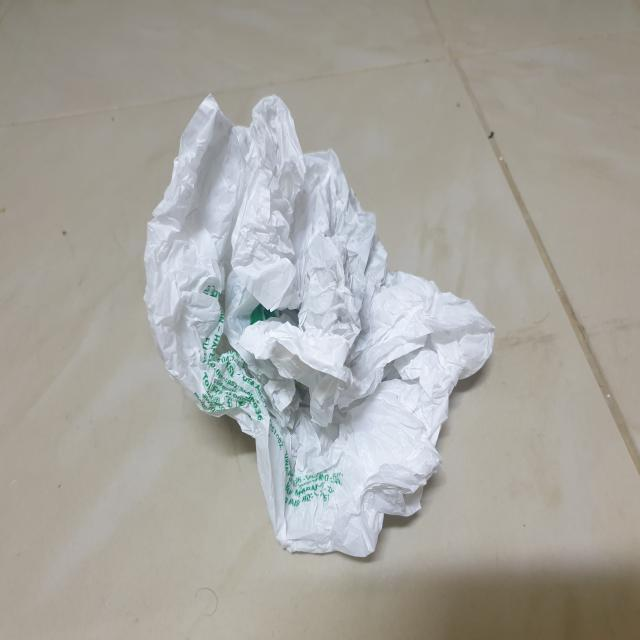Plastic_Bag: (136, 77, 512, 567)
